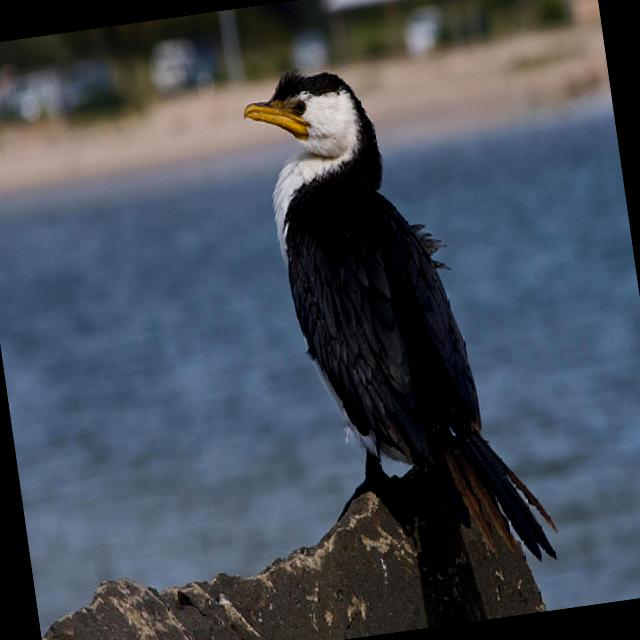Vehicle: (54, 64, 128, 128), (145, 34, 210, 94), (0, 65, 57, 131)
